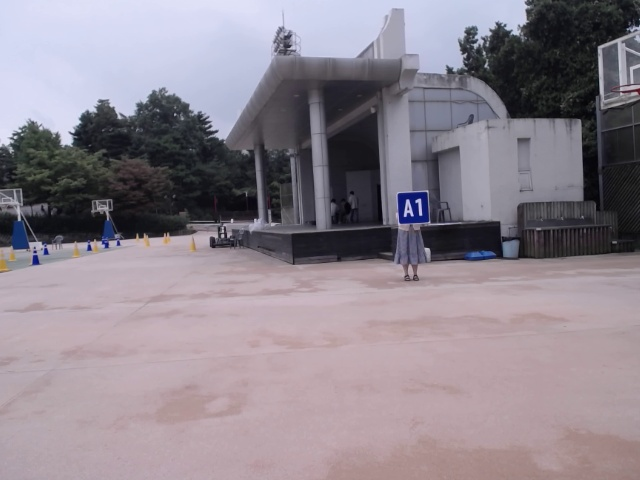delivery_a1: (397, 191, 430, 225)
